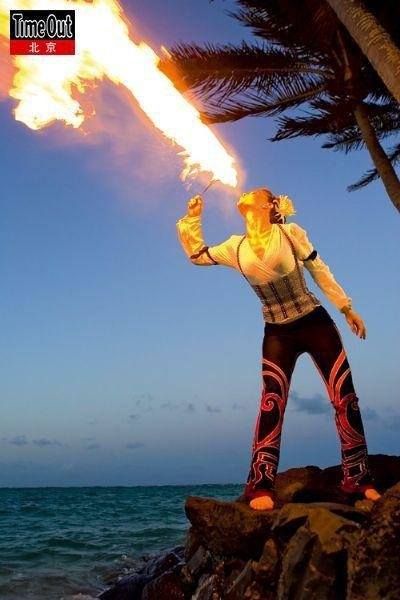fire: (1, 0, 244, 189)
